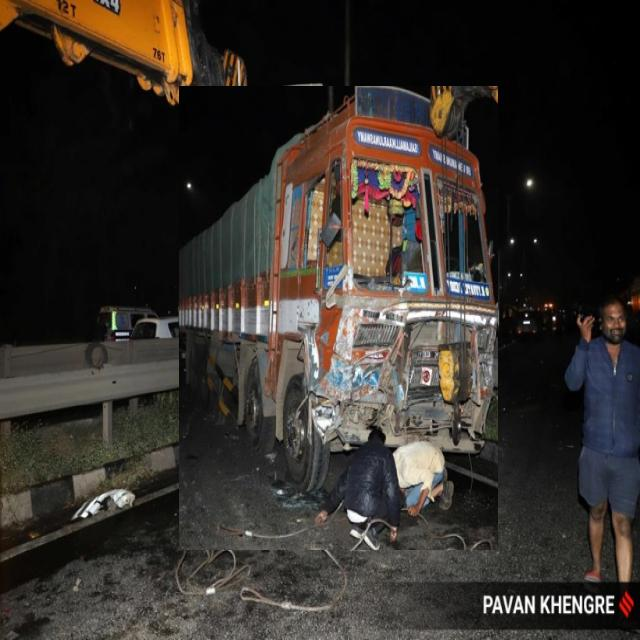accident: (180, 86, 498, 550)
